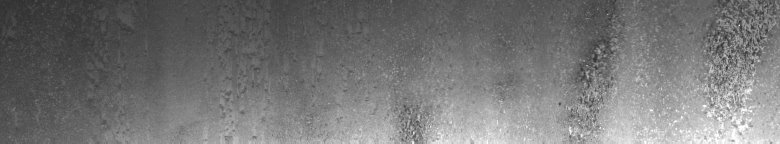hc: (702, 5, 774, 92)
